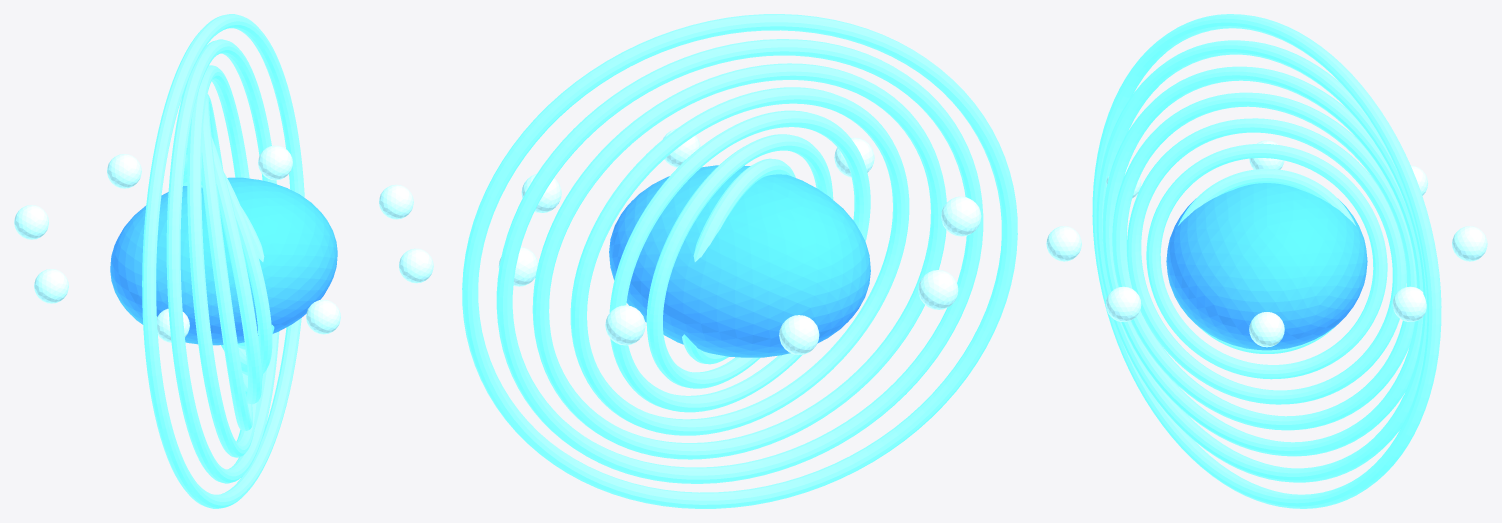
Rendered from tide.glb.
The picture shows the model from 3 angles, left to right: view 1: azimuth 30°, elevation 25°; view 2: azimuth 150°, elevation 25°; view 3: azimuth 270°, elevation 25°; orthographic projection. The views are drawn at different scales.
Parts seen in each view (by area): view 1: tide_part_000, tide_part_007, tide_part_006, tide_part_005, tide_part_004, tide_part_003, tide_part_002, tide_part_008, tide_part_009, tide_part_015, tide_part_013, tide_part_010 (+3 smaller); view 2: tide_part_000, tide_part_007, tide_part_006, tide_part_005, tide_part_004, tide_part_003, tide_part_002, tide_part_001, tide_part_014, tide_part_013, tide_part_011, tide_part_012 (+3 smaller); view 3: tide_part_000, tide_part_007, tide_part_005, tide_part_006, tide_part_004, tide_part_003, tide_part_002, tide_part_001, tide_part_010, tide_part_014, tide_part_008, tide_part_009 (+1 smaller).
Part boxes in pixels (bbox=[...]): tide_part_000: bbox=[110, 177, 337, 345]; tide_part_007: bbox=[142, 14, 304, 508]; tide_part_006: bbox=[166, 39, 279, 483]; tide_part_005: bbox=[187, 65, 258, 457]; tide_part_004: bbox=[201, 94, 252, 430]; tide_part_003: bbox=[187, 137, 261, 404]; tide_part_002: bbox=[183, 147, 272, 375]; tide_part_008: bbox=[379, 184, 413, 219]; tide_part_009: bbox=[399, 248, 433, 283]; tide_part_015: bbox=[258, 145, 292, 180]; tide_part_013: bbox=[14, 205, 48, 239]; tide_part_010: bbox=[306, 299, 340, 334]; tide_part_000: bbox=[609, 165, 870, 357]; tide_part_007: bbox=[462, 14, 1017, 508]; tide_part_006: bbox=[496, 39, 983, 483]; tide_part_005: bbox=[532, 63, 946, 459]; tide_part_004: bbox=[570, 87, 909, 435]; tide_part_003: bbox=[609, 110, 870, 412]; tide_part_002: bbox=[646, 134, 833, 388]; tide_part_001: bbox=[682, 158, 795, 364]; tide_part_014: bbox=[605, 305, 645, 345]; tide_part_013: bbox=[779, 315, 819, 354]; tide_part_011: bbox=[941, 196, 981, 236]; tide_part_012: bbox=[918, 270, 958, 309]; tide_part_000: bbox=[1166, 183, 1367, 350]; tide_part_007: bbox=[1092, 14, 1441, 508]; tide_part_005: bbox=[1102, 66, 1422, 456]; tide_part_006: bbox=[1096, 40, 1427, 482]; tide_part_004: bbox=[1112, 92, 1416, 430]; tide_part_003: bbox=[1127, 118, 1406, 404]; tide_part_002: bbox=[1146, 143, 1387, 379]; tide_part_001: bbox=[1178, 169, 1355, 353]; tide_part_010: bbox=[1046, 226, 1081, 261]; tide_part_014: bbox=[1452, 226, 1487, 261]; tide_part_008: bbox=[1249, 312, 1284, 347]; tide_part_009: bbox=[1105, 286, 1141, 321].
Size of the model in its own units: 2.33 by 2.65 by 2.33.
